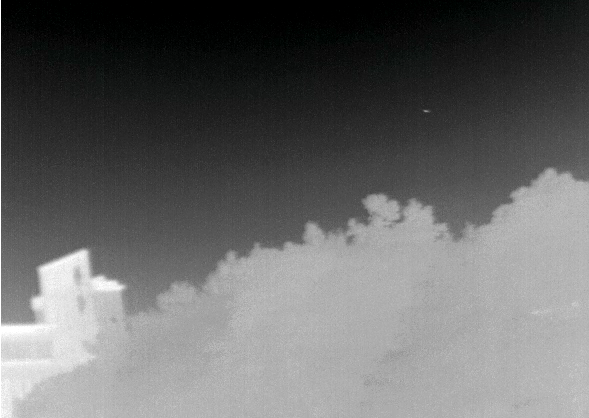dim target: (422, 108, 431, 113)
